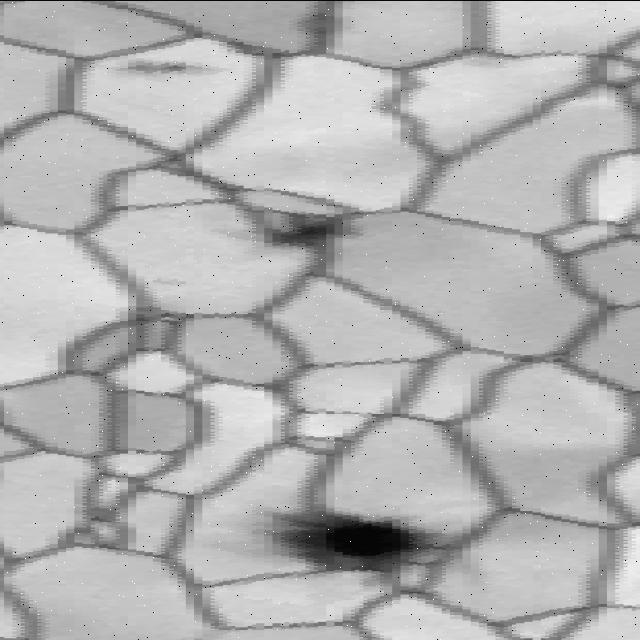good_void: (196, 501, 461, 583), (212, 209, 356, 258), (106, 53, 221, 75), (148, 275, 189, 288)
